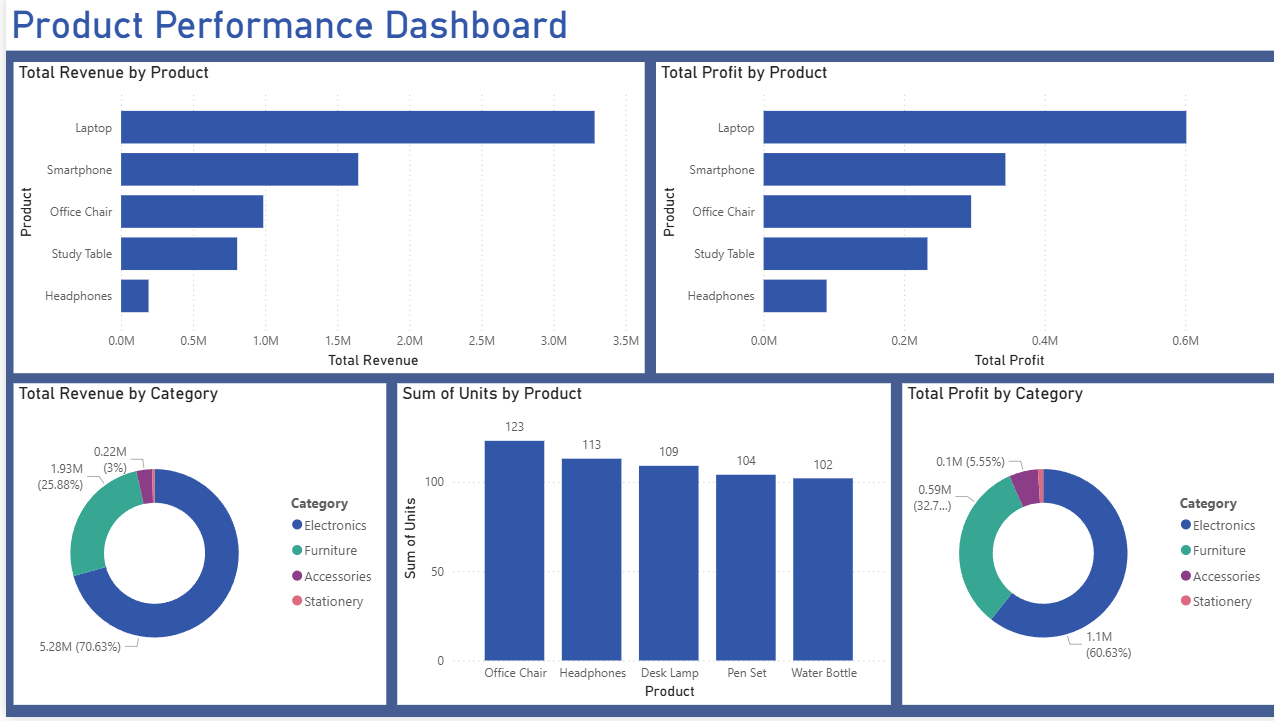

The page's visual inventory and layout, read from the dashboard file:
{"tool":"powerbi","page":{"name":"Product Performance Dashboard","canvas":[1280,720],"ordinal":2},"visuals":[{"type":"textbox","box":[0,0,1280,53.8],"z":0},{"type":"clusteredBarChart","fields":{"Y":["SalesDataTable.Total Revenue"],"Category":["ProductsTable.Product"]},"box":[7.5,65,631.2,311.2],"z":1000},{"type":"clusteredBarChart","fields":{"Category":["ProductsTable.Product"],"Y":["SalesDataTable.Total Profit"]},"box":[650,65,618.8,311.2],"z":2000},{"type":"columnChart","fields":{"Category":["ProductsTable.Product"],"Y":["Sum(SalesDataTable.Units)"]},"box":[391.2,386.2,493.8,321.2],"z":3000},{"type":"donutChart","fields":{"Category":["SalesDataTable.Category"],"Y":["SalesDataTable.Total Revenue"]},"box":[7.5,386.2,372.5,321.2],"z":4000},{"type":"donutChart","fields":{"Category":["ProductsTable.Category"],"Y":["SalesDataTable.Total Profit"]},"box":[896.2,386.2,372.5,321.2],"z":5000}]}

Visuals, with their boxes in screenshot pixels (x1, y1, x2, y2), scaled from the page's 1280x720 canvas onto the 1274x721 screenshot:
textbox: pyautogui.locateOnScreen(0, 0, 1273, 54)
clusteredBarChart - SalesDataTable.Total Revenue x ProductsTable.Product: pyautogui.locateOnScreen(7, 65, 636, 377)
clusteredBarChart - ProductsTable.Product x SalesDataTable.Total Profit: pyautogui.locateOnScreen(647, 65, 1263, 377)
columnChart - ProductsTable.Product x Sum(SalesDataTable.Units): pyautogui.locateOnScreen(389, 387, 881, 708)
donutChart - SalesDataTable.Category x SalesDataTable.Total Revenue: pyautogui.locateOnScreen(7, 387, 378, 708)
donutChart - ProductsTable.Category x SalesDataTable.Total Profit: pyautogui.locateOnScreen(892, 387, 1263, 708)
